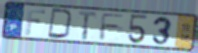3: (150, 15, 175, 47)
5: (127, 13, 148, 45)
D: (46, 7, 75, 41)
F: (98, 12, 126, 41), (24, 7, 47, 36)
T: (77, 10, 99, 41)
